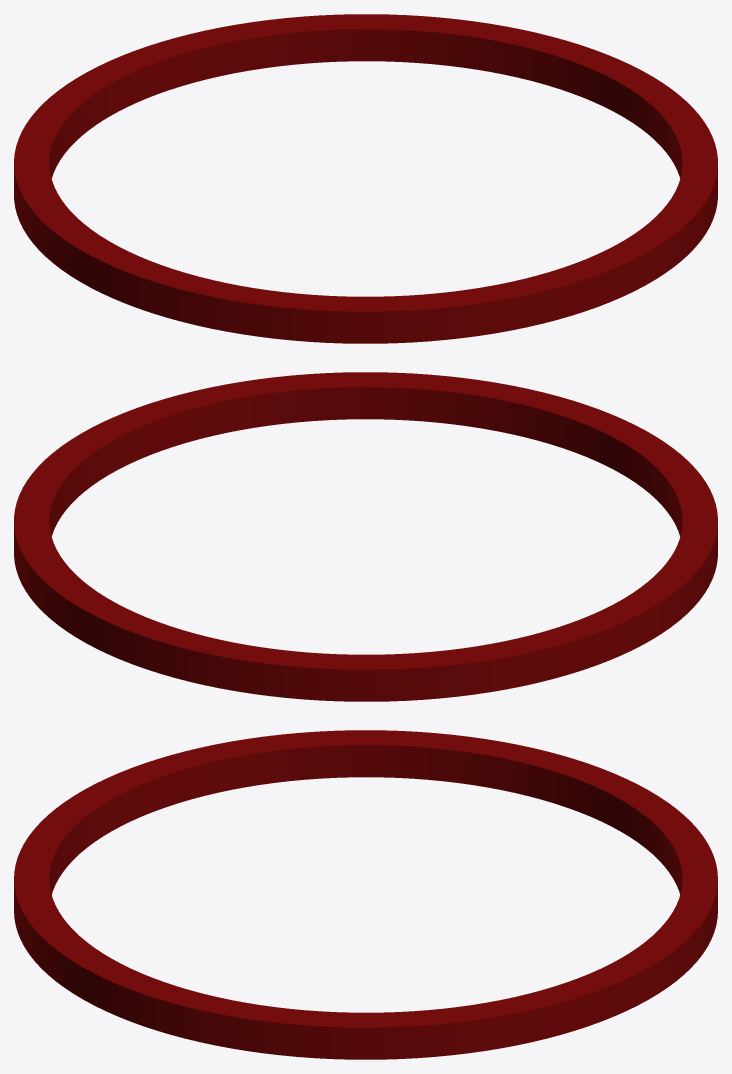
3 views of the same model, one above another, from view 1: azimuth 30°, elevation 25°; view 2: azimuth 150°, elevation 25°; view 3: azimuth 270°, elevation 25° (orthographic).
Parts seen in each view (by area): view 1: Circle; view 2: Circle; view 3: Circle.
Part boxes in pixels (x1,y1,x2,y2): Circle: (14,14,717,343); Circle: (14,372,717,701); Circle: (14,730,717,1059).
Size of the model in its own units: 199 by 10 by 199.
